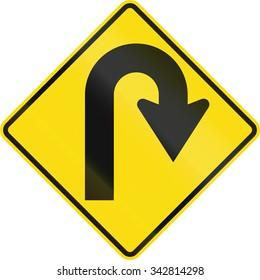Right Hair Pin Bend: (22, 26, 239, 224)
